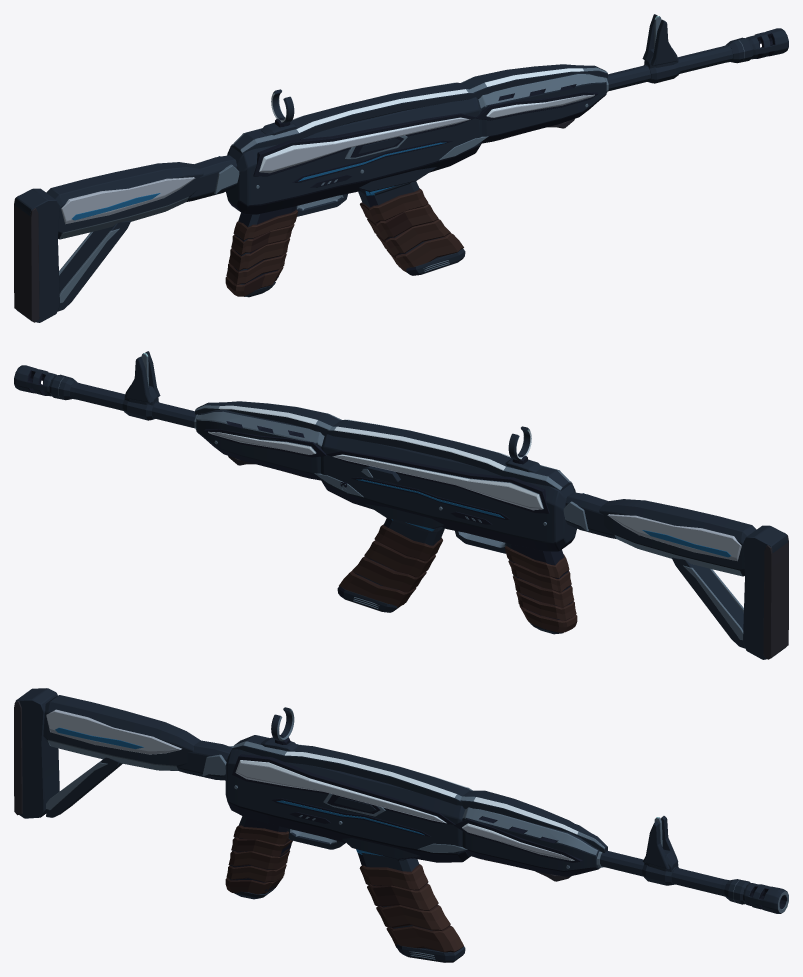
Rendered from Vandal_StormShadow_v09.glb.
3 renders of one model, top to bottom at view 1: azimuth 30°, elevation 25°; view 2: azimuth 150°, elevation 25°; view 3: azimuth 330°, elevation 25°, orthographic.
Visible parts, largest first — view 1: Receiver_IndigoForging.001, Stock_SweptCheek.001, UpperSpine_ProwBrow.001, Shroud_OctagonalForging.001, Stock_HeelForging.001, Stock_ButtPad.001, Rear_SilverPlate_Far.001, Stock_CheekBlade.003, Shroud_DorsalBlade.001, Stock_AftDiagonalStrut.001, Rear_DovetailBed_Far.001, Barrel_ExposedBluedStem.001 (+21 smaller); view 2: Receiver_IndigoForging.001, Stock_SweptCheek.001, UpperSpine_ProwBrow.001, Shroud_OctagonalForging.001, Stock_HeelForging.001, Stock_ButtPad.001, Rear_SilverPlate_Player.001, Stock_CheekBlade.002, Shroud_DorsalBlade.001, Rear_DovetailBed_Player.001, Stock_AftDiagonalStrut.001, Barrel_ExposedBluedStem.001 (+21 smaller); view 3: Receiver_IndigoForging.001, Stock_SweptCheek.001, Shroud_OctagonalForging.001, UpperSpine_ProwBrow.001, Stock_HeelForging.001, Rear_SilverPlate_Far.001, Shroud_DorsalBlade.001, Stock_CheekBlade.003, Rear_DovetailBed_Far.001, Barrel_ExposedBluedStem.001, Mag_LeatherBind_04.001, Mag_LeatherBind_03.001 (+22 smaller).
Part boxes in pixels (x1,y1,x2,y2): Receiver_IndigoForging.001: (226, 97, 483, 214); Stock_SweptCheek.001: (46, 162, 203, 239); UpperSpine_ProwBrow.001: (232, 82, 478, 153); Shroud_OctagonalForging.001: (478, 72, 606, 143); Stock_HeelForging.001: (15, 188, 59, 322); Stock_ButtPad.001: (14, 195, 39, 322); Rear_SilverPlate_Far.001: (259, 117, 470, 173); Stock_CheekBlade.003: (61, 177, 195, 224); Shroud_DorsalBlade.001: (461, 64, 607, 98); Stock_AftDiagonalStrut.001: (57, 220, 130, 311); Rear_DovetailBed_Far.001: (253, 113, 476, 176); Barrel_ExposedBluedStem.001: (606, 44, 732, 91); Receiver_IndigoForging.001: (319, 434, 576, 551); Stock_SweptCheek.001: (599, 499, 756, 576); UpperSpine_ProwBrow.001: (324, 419, 570, 490); Shroud_OctagonalForging.001: (196, 409, 324, 480); Stock_HeelForging.001: (743, 525, 787, 659); Stock_ButtPad.001: (763, 532, 788, 659); Rear_SilverPlate_Player.001: (332, 454, 543, 510); Stock_CheekBlade.002: (607, 514, 741, 561); Shroud_DorsalBlade.001: (195, 401, 341, 435); Rear_DovetailBed_Player.001: (326, 450, 549, 513); Stock_AftDiagonalStrut.001: (672, 557, 745, 648); Barrel_ExposedBluedStem.001: (70, 381, 196, 428); Receiver_IndigoForging.001: (225, 749, 470, 862); Stock_SweptCheek.001: (43, 695, 200, 770); Shroud_OctagonalForging.001: (462, 807, 600, 876); UpperSpine_ProwBrow.001: (232, 735, 472, 809); Stock_HeelForging.001: (15, 688, 59, 818); Rear_SilverPlate_Far.001: (235, 760, 446, 823); Shroud_DorsalBlade.001: (460, 790, 607, 852); Stock_CheekBlade.003: (46, 709, 181, 754); Rear_DovetailBed_Far.001: (232, 754, 455, 824); Barrel_ExposedBluedStem.001: (600, 851, 728, 896); Mag_LeatherBind_04.001: (386, 926, 463, 952); Mag_LeatherBind_03.001: (376, 905, 450, 930).
Size of the model in its own units: 3.9 by 1.03 by 0.242.
